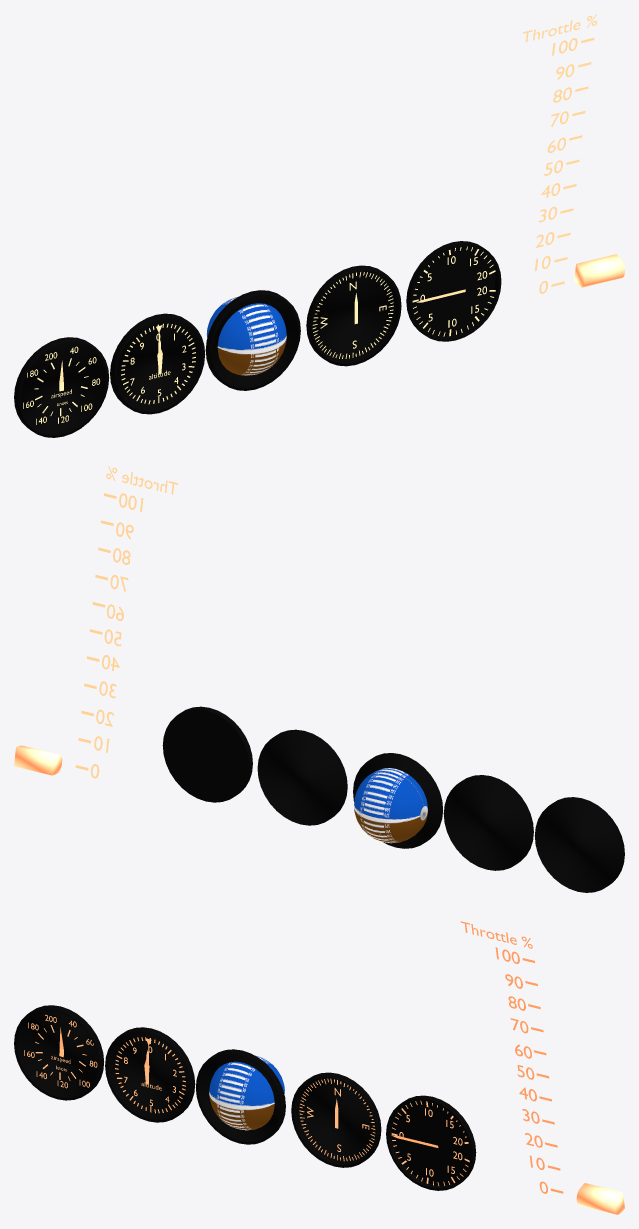
The model's file is flight_instruments.gltf.
3 renders of one model, top to bottom at view 1: azimuth 30°, elevation 25°; view 2: azimuth 150°, elevation 25°; view 3: azimuth 330°, elevation 25°, orthographic. The views are drawn at different scales.
Visible parts, largest first — view 1: compass, airspeed_indicator, variometer, altimeter, attitude_indicator_sphere, attitude_indicator, throttle_slider_label, throttle_slider, Text.001, Text.003, Text.004, compass_dial; view 2: altimeter, compass, variometer, airspeed_indicator, attitude_indicator_sphere, attitude_indicator, throttle_slider_label, throttle_slider; view 3: compass, airspeed_indicator, variometer, altimeter, attitude_indicator_sphere, attitude_indicator, throttle_slider_label, throttle_slider, Text.001, Text.004, Text.003, compass_dial.
Part boxes in pixels (box(x1,y1,x2,y2)): compass: box(306, 265, 401, 366); airspeed_indicator: box(14, 337, 109, 437); variometer: box(406, 241, 501, 341); altimeter: box(110, 313, 205, 414); attitude_indicator_sphere: box(206, 296, 286, 375); attitude_indicator: box(205, 290, 300, 390); throttle_slider_label: box(523, 14, 596, 293); throttle_slider: box(574, 254, 624, 287); Text.001: box(23, 346, 100, 424); Text.003: box(412, 246, 495, 336); Text.004: box(121, 323, 195, 404); compass_dial: box(312, 272, 393, 358); altimeter: box(443, 775, 533, 870); compass: box(257, 729, 347, 825); variometer: box(162, 706, 252, 802); airspeed_indicator: box(534, 797, 624, 892); attitude_indicator_sphere: box(354, 768, 427, 843); attitude_indicator: box(353, 753, 442, 848); throttle_slider_label: box(75, 466, 178, 778); throttle_slider: box(14, 745, 62, 775); compass: box(291, 1072, 381, 1167); airspeed_indicator: box(14, 1005, 103, 1100); variometer: box(386, 1095, 476, 1190); altimeter: box(105, 1027, 195, 1122); attitude_indicator_sphere: box(209, 1055, 284, 1130); attitude_indicator: box(196, 1049, 285, 1144); throttle_slider_label: box(460, 921, 563, 1193); throttle_slider: box(576, 1183, 624, 1214); Text.001: box(24, 1015, 97, 1088); Text.004: box(115, 1037, 185, 1113); Text.003: box(391, 1100, 469, 1185); compass_dial: box(299, 1078, 375, 1161).
Size of the model in its own units: 3.58 by 1.7 by 0.4522.
3 materials, 1 textured.
